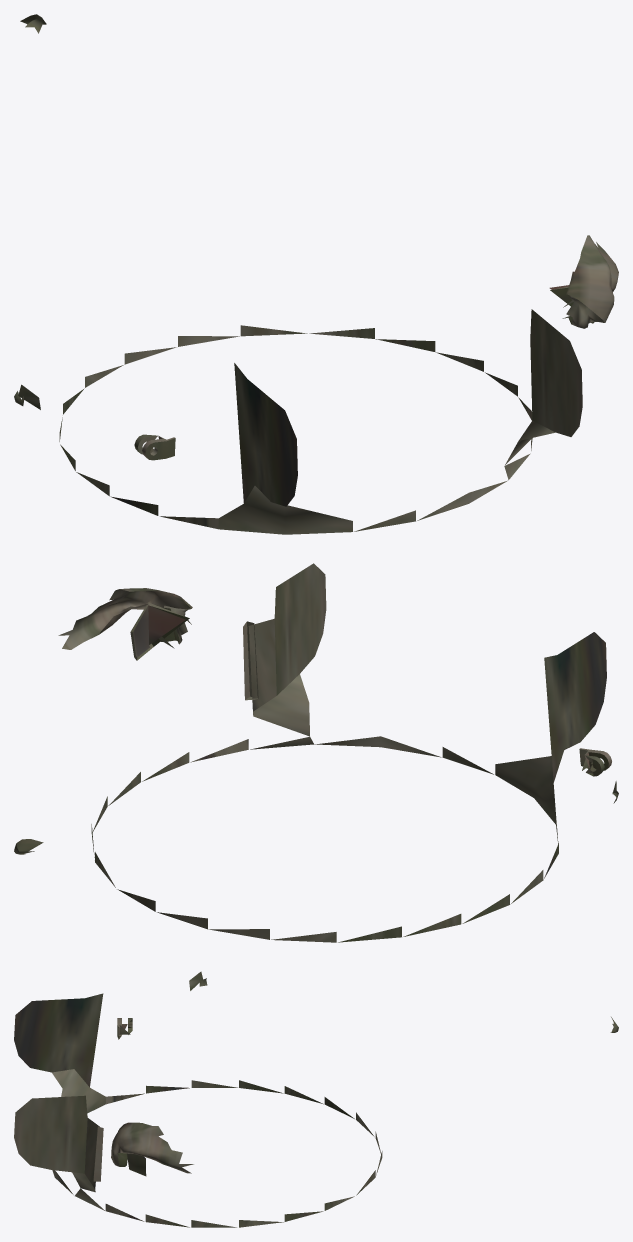
The model's file is pershing_hull_m2.obj.
The picture shows the model from 3 angles, top to bottom: view 1: azimuth 30°, elevation 25°; view 2: azimuth 150°, elevation 25°; view 3: azimuth 270°, elevation 25°; orthographic projection. The views are drawn at different scales.
Visible parts, largest first — view 1: pershing_hull_m2; view 2: pershing_hull_m2; view 3: pershing_hull_m2.
Boxes of the visible parts, bbox=[...] form: pershing_hull_m2: bbox=[14, 14, 618, 534]; pershing_hull_m2: bbox=[14, 563, 618, 942]; pershing_hull_m2: bbox=[14, 971, 618, 1227].
Size of the model in its own units: 2.69 by 0.9291 by 3.5.
Materials: 1 (1 with a texture image).
